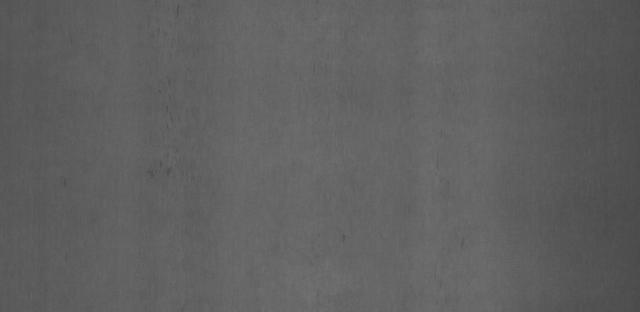silk_spot: (145, 77, 210, 206)
